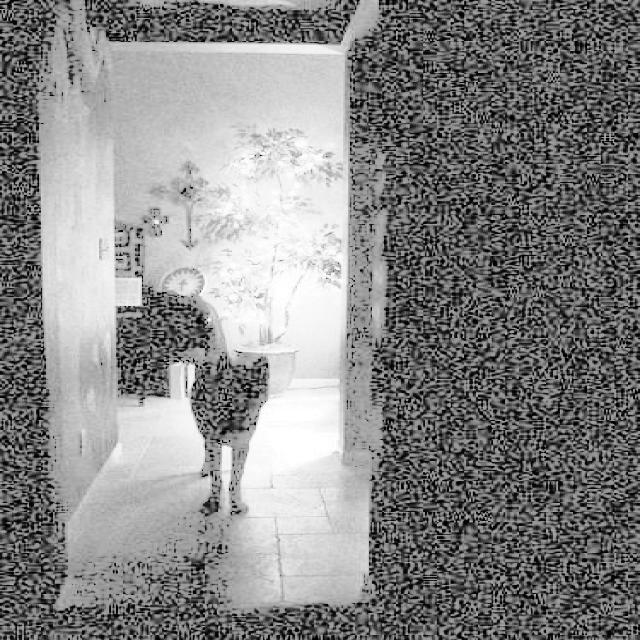Dog: (118, 275, 326, 515)
